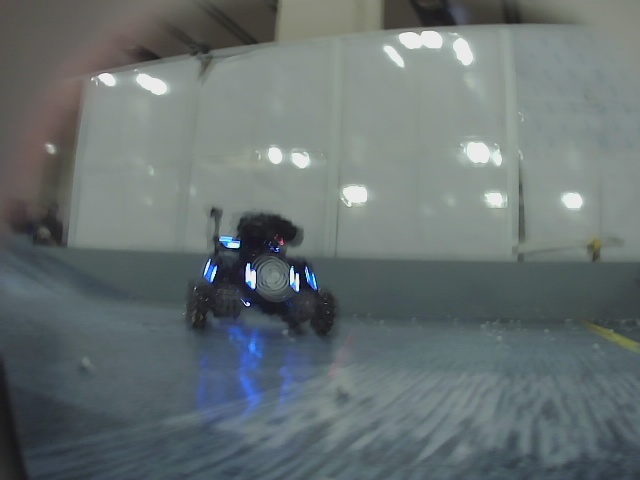lamp: (288, 264, 299, 291), (245, 264, 256, 290)
pair: (246, 265, 299, 292)
